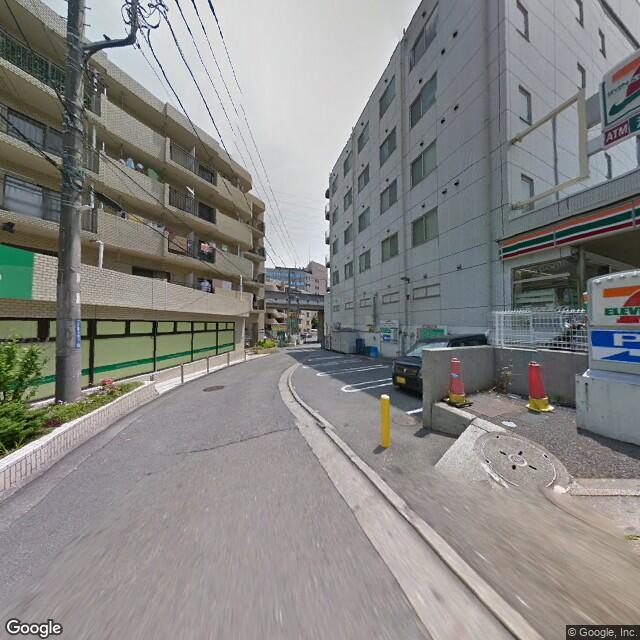7-eleven: (495, 193, 639, 262), (599, 45, 639, 126), (590, 272, 640, 332)
